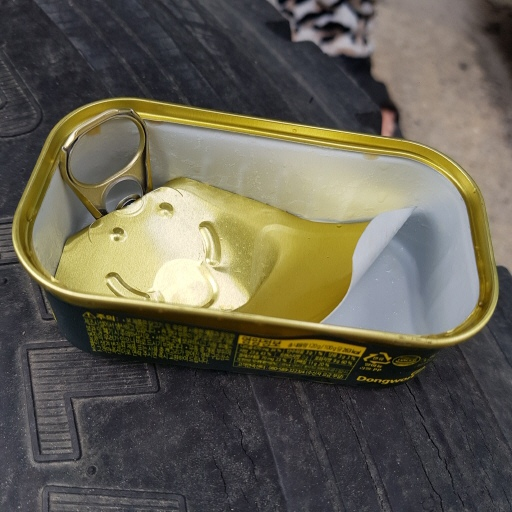Metal_2: (10, 95, 501, 396)
